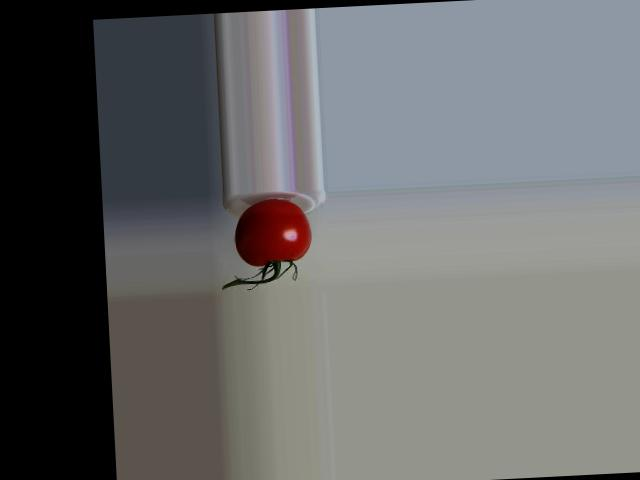tomato: (232, 197, 312, 267)
